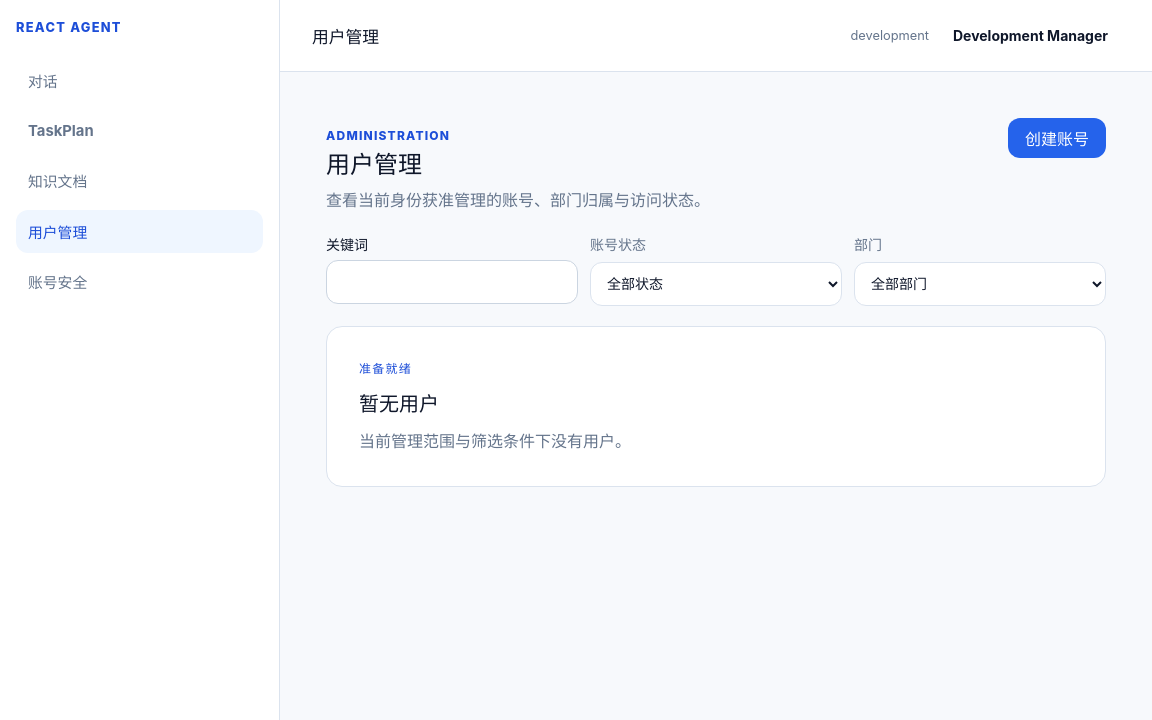
Test: User Management create flow › lets a department manager use only the server-trimmed creation catalog
Check: the link "用户管理" is shown, box [16, 210, 263, 253]
Click the button "创建账号" at (1057, 138), box [1008, 118, 1106, 158]
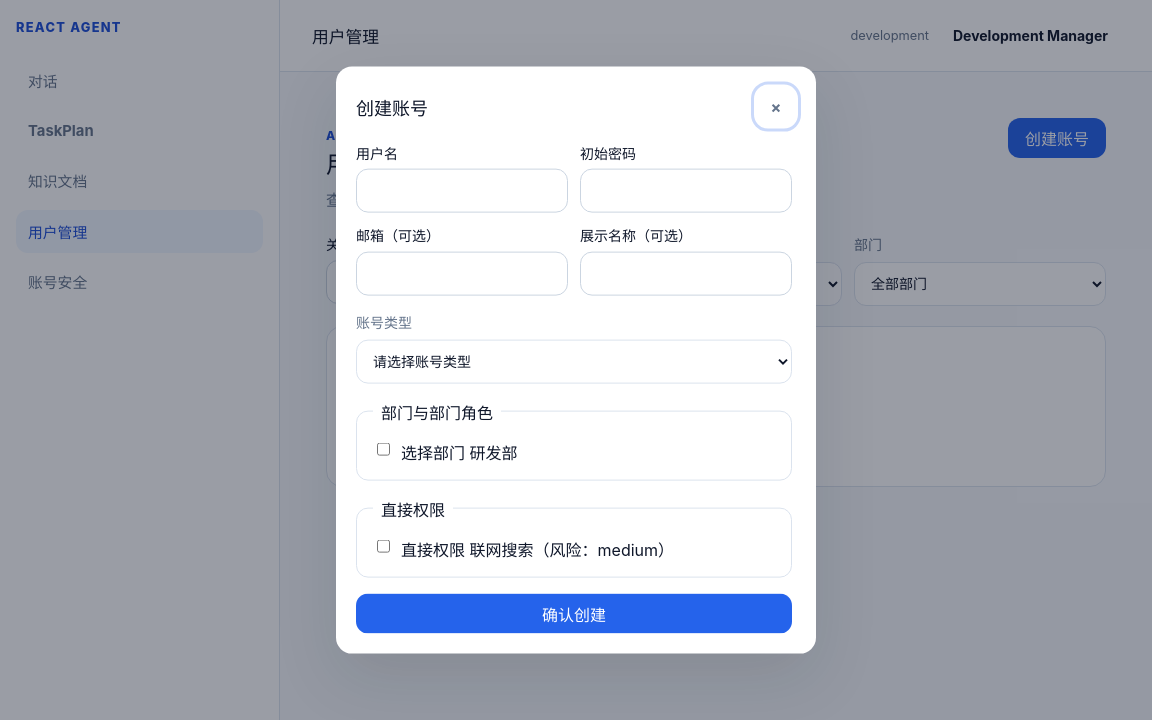
Check: the checkbox labelled "选择部门 研发部" is shown, box [377, 442, 390, 455]
